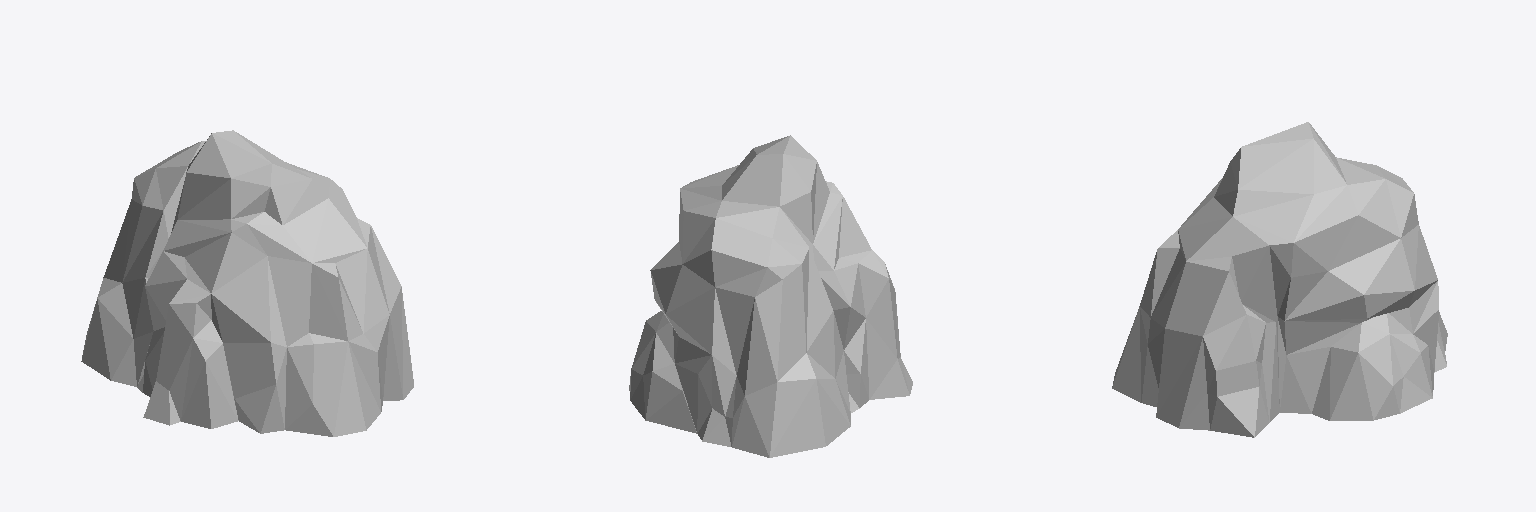
The model's file is rock_001_LOD1.obj.
3 views of the same model, side by side, from view 1: azimuth 30°, elevation 25°; view 2: azimuth 150°, elevation 25°; view 3: azimuth 270°, elevation 25° (orthographic).
Parts seen in each view (by area): view 1: rock_001_LOD1 rock_001; view 2: rock_001_LOD1 rock_001; view 3: rock_001_LOD1 rock_001.
Part boxes in pixels (x1,y1,x2,y2): rock_001_LOD1 rock_001: (81, 130, 413, 436); rock_001_LOD1 rock_001: (629, 135, 912, 457); rock_001_LOD1 rock_001: (1112, 122, 1447, 437).
Bounding box in the file's own units: 965 × 868 × 1103.